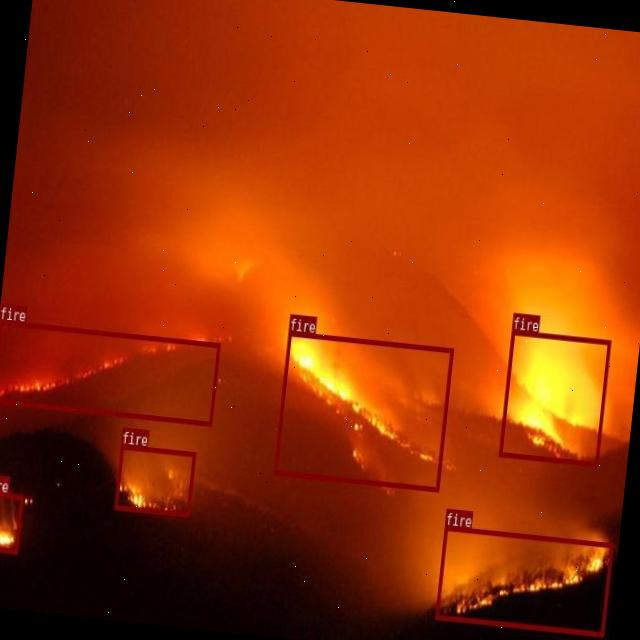fire: (273, 330, 453, 490), (0, 318, 219, 425), (434, 524, 612, 635), (498, 328, 610, 466), (114, 442, 195, 516), (0, 489, 23, 552)
